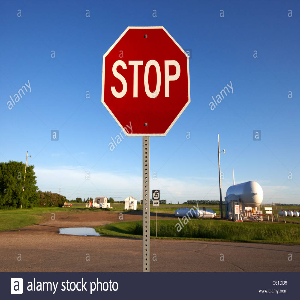STOP_SIGN: (101, 26, 190, 135)
